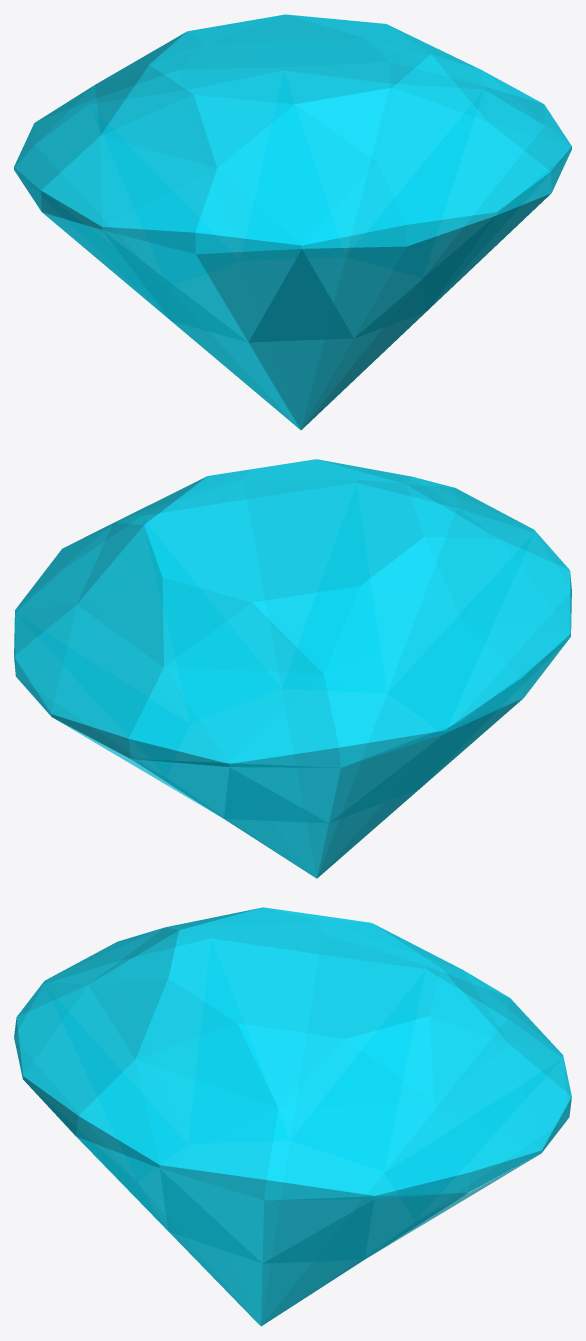
Rendered from Diamondo.fbx.
3 views of the same model, one above another, from view 1: azimuth 30°, elevation 25°; view 2: azimuth 150°, elevation 25°; view 3: azimuth 270°, elevation 25° (orthographic). The views are drawn at different scales.
Parts seen in each view (by area): view 1: Object_2; view 2: Object_2; view 3: Object_2.
Boxes of the visible parts, x1,y1,x2,y2 form: Object_2: (14,14,571,430); Object_2: (14,459,571,878); Object_2: (14,907,571,1326).
Bounding box in the file's own units: 543 × 399 × 541.
